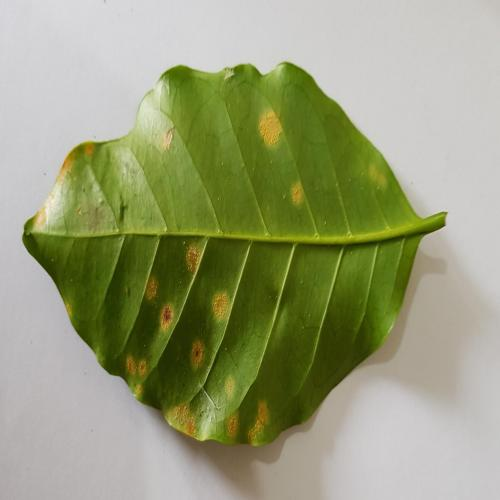leaf: (8, 43, 454, 463)
rust: (244, 102, 289, 151), (240, 392, 277, 449), (116, 348, 154, 403), (203, 280, 238, 330), (161, 399, 198, 441), (18, 206, 52, 246), (177, 240, 209, 278), (180, 336, 208, 374), (367, 160, 393, 197), (218, 371, 243, 408), (72, 134, 99, 168), (153, 298, 178, 334), (54, 152, 74, 191), (289, 177, 308, 210), (222, 413, 244, 441)
